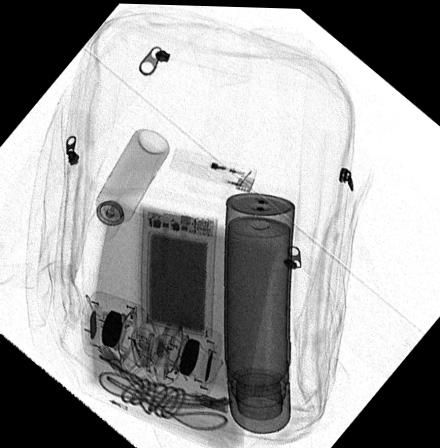Lighter: (169, 145, 258, 192)
Powerbank: (140, 205, 216, 339)
Sprayer: (85, 126, 168, 241)
